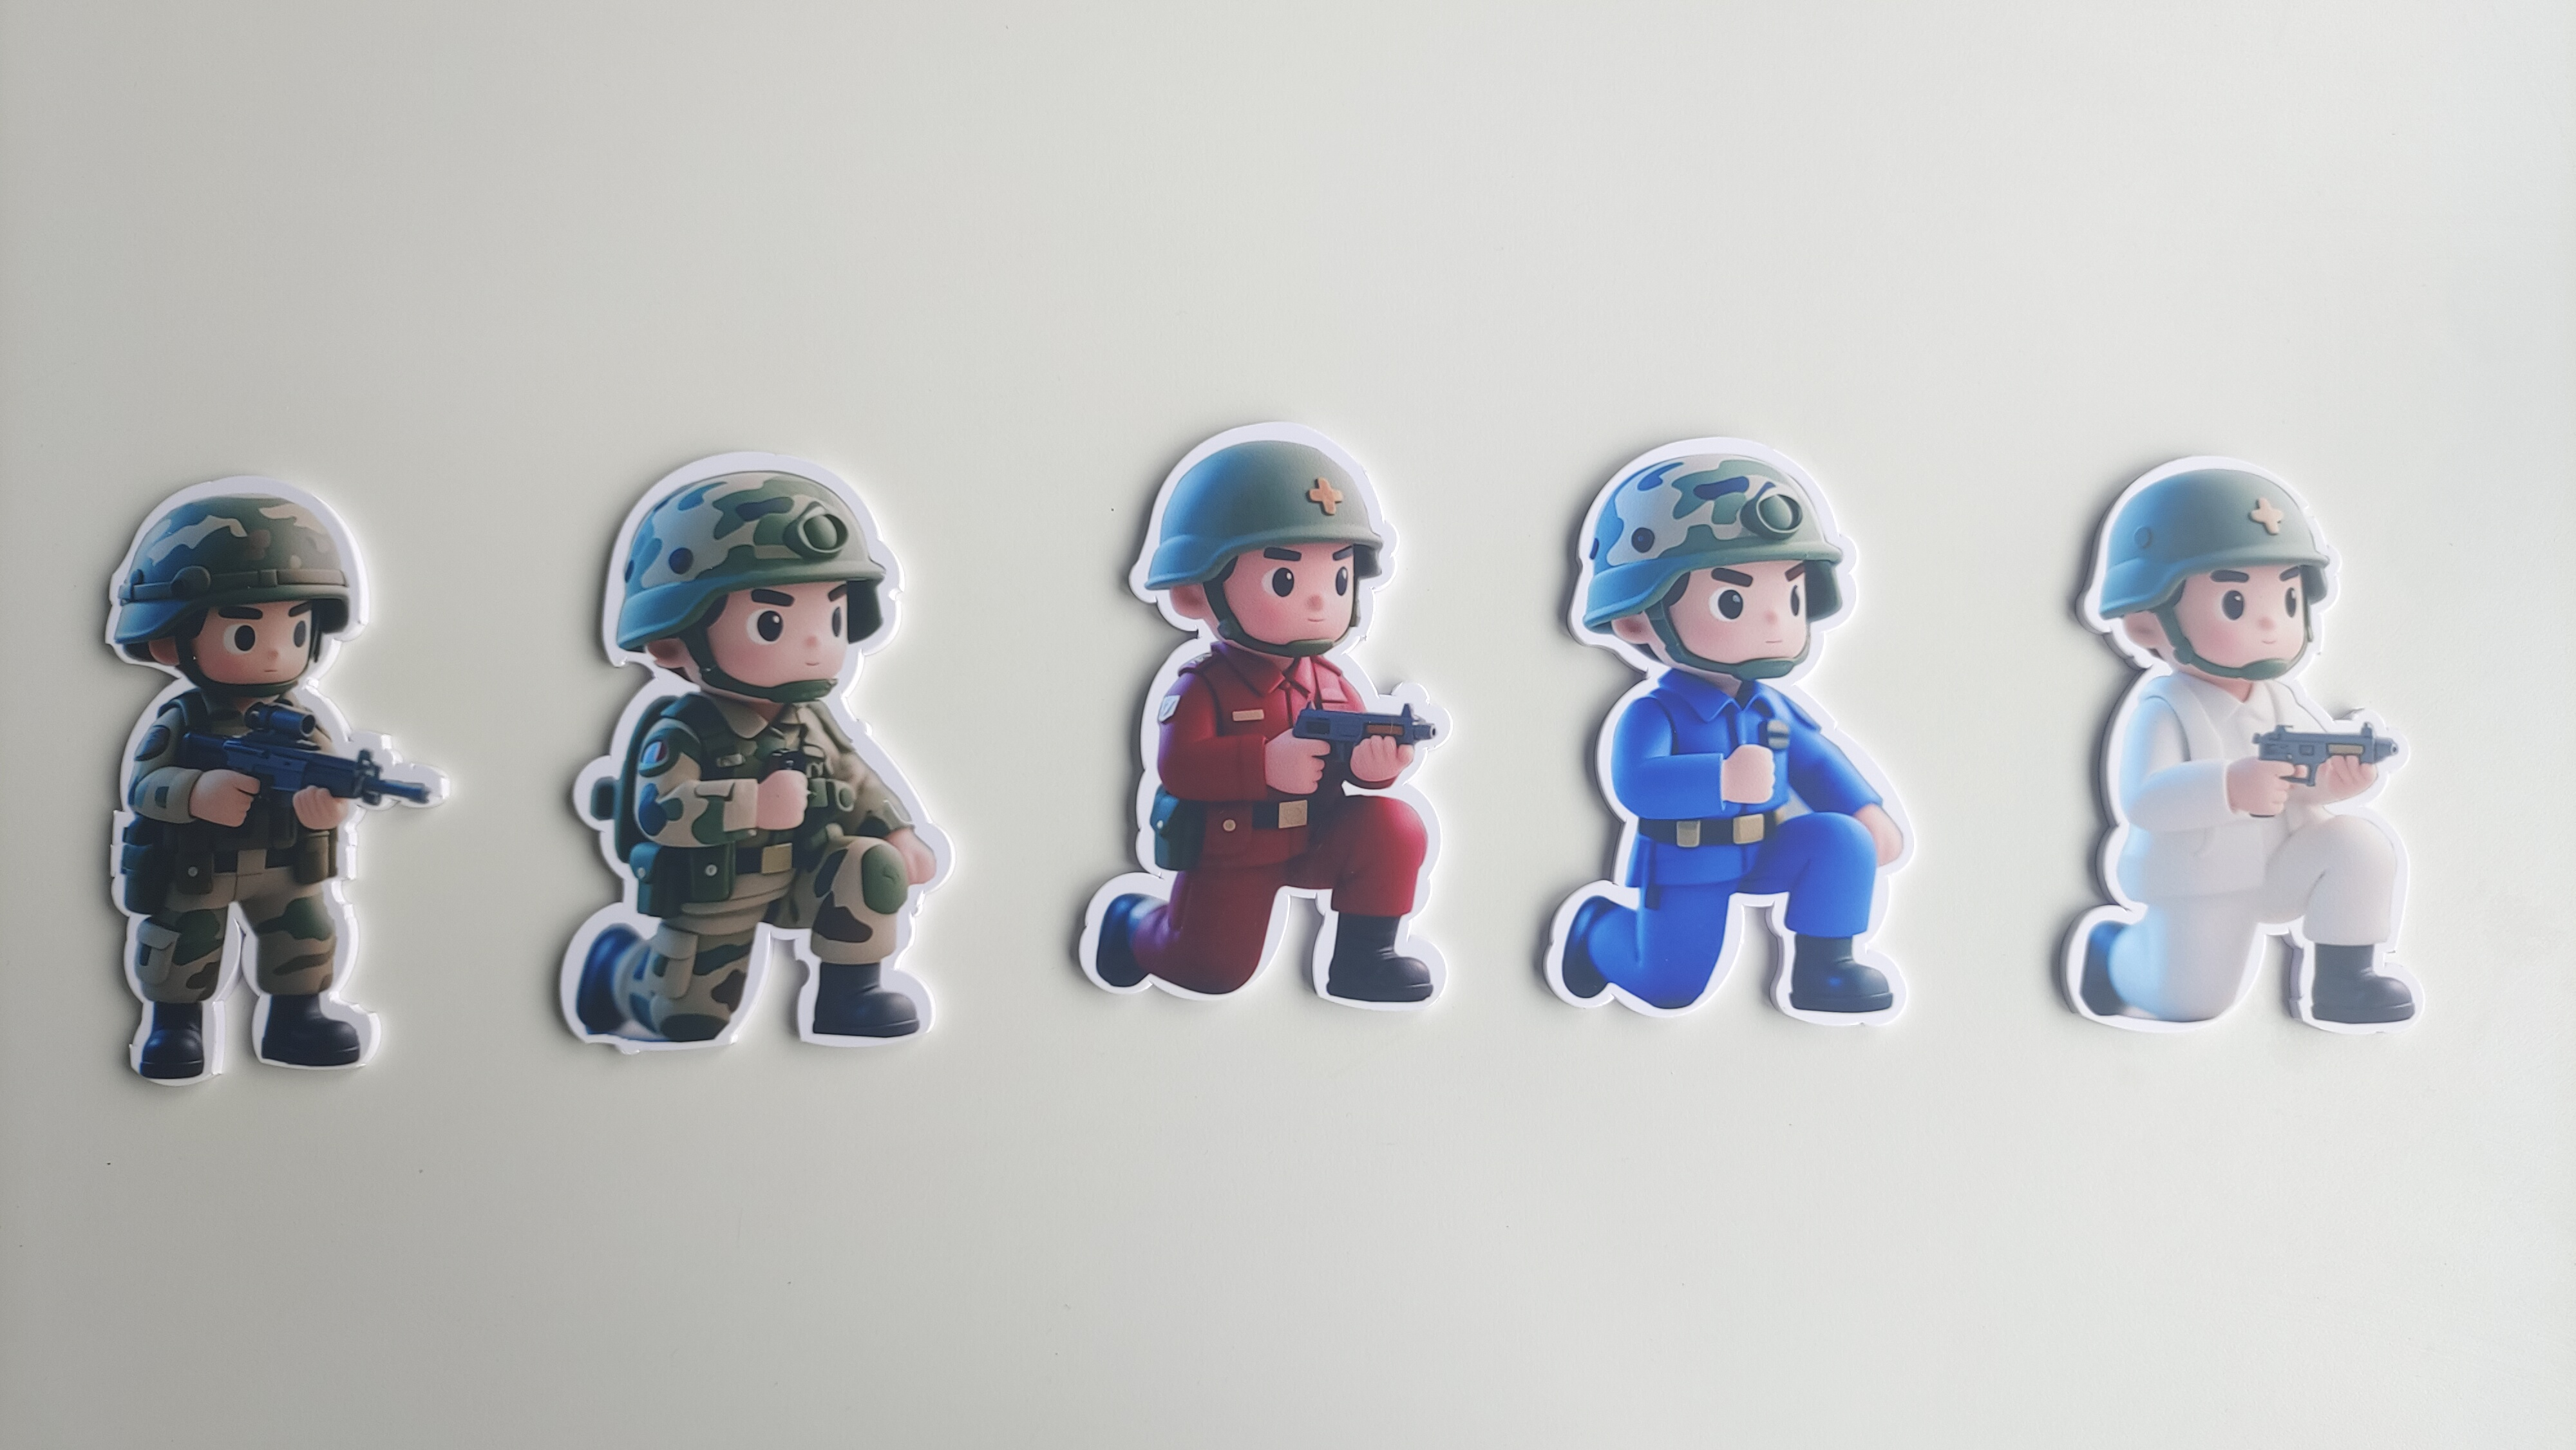enemy1: (1067, 647, 1456, 1034)
enemy2: (1534, 683, 1925, 1034)
friend: (540, 690, 957, 1065), (103, 686, 386, 1084)
hostage: (2042, 670, 2456, 1054)
